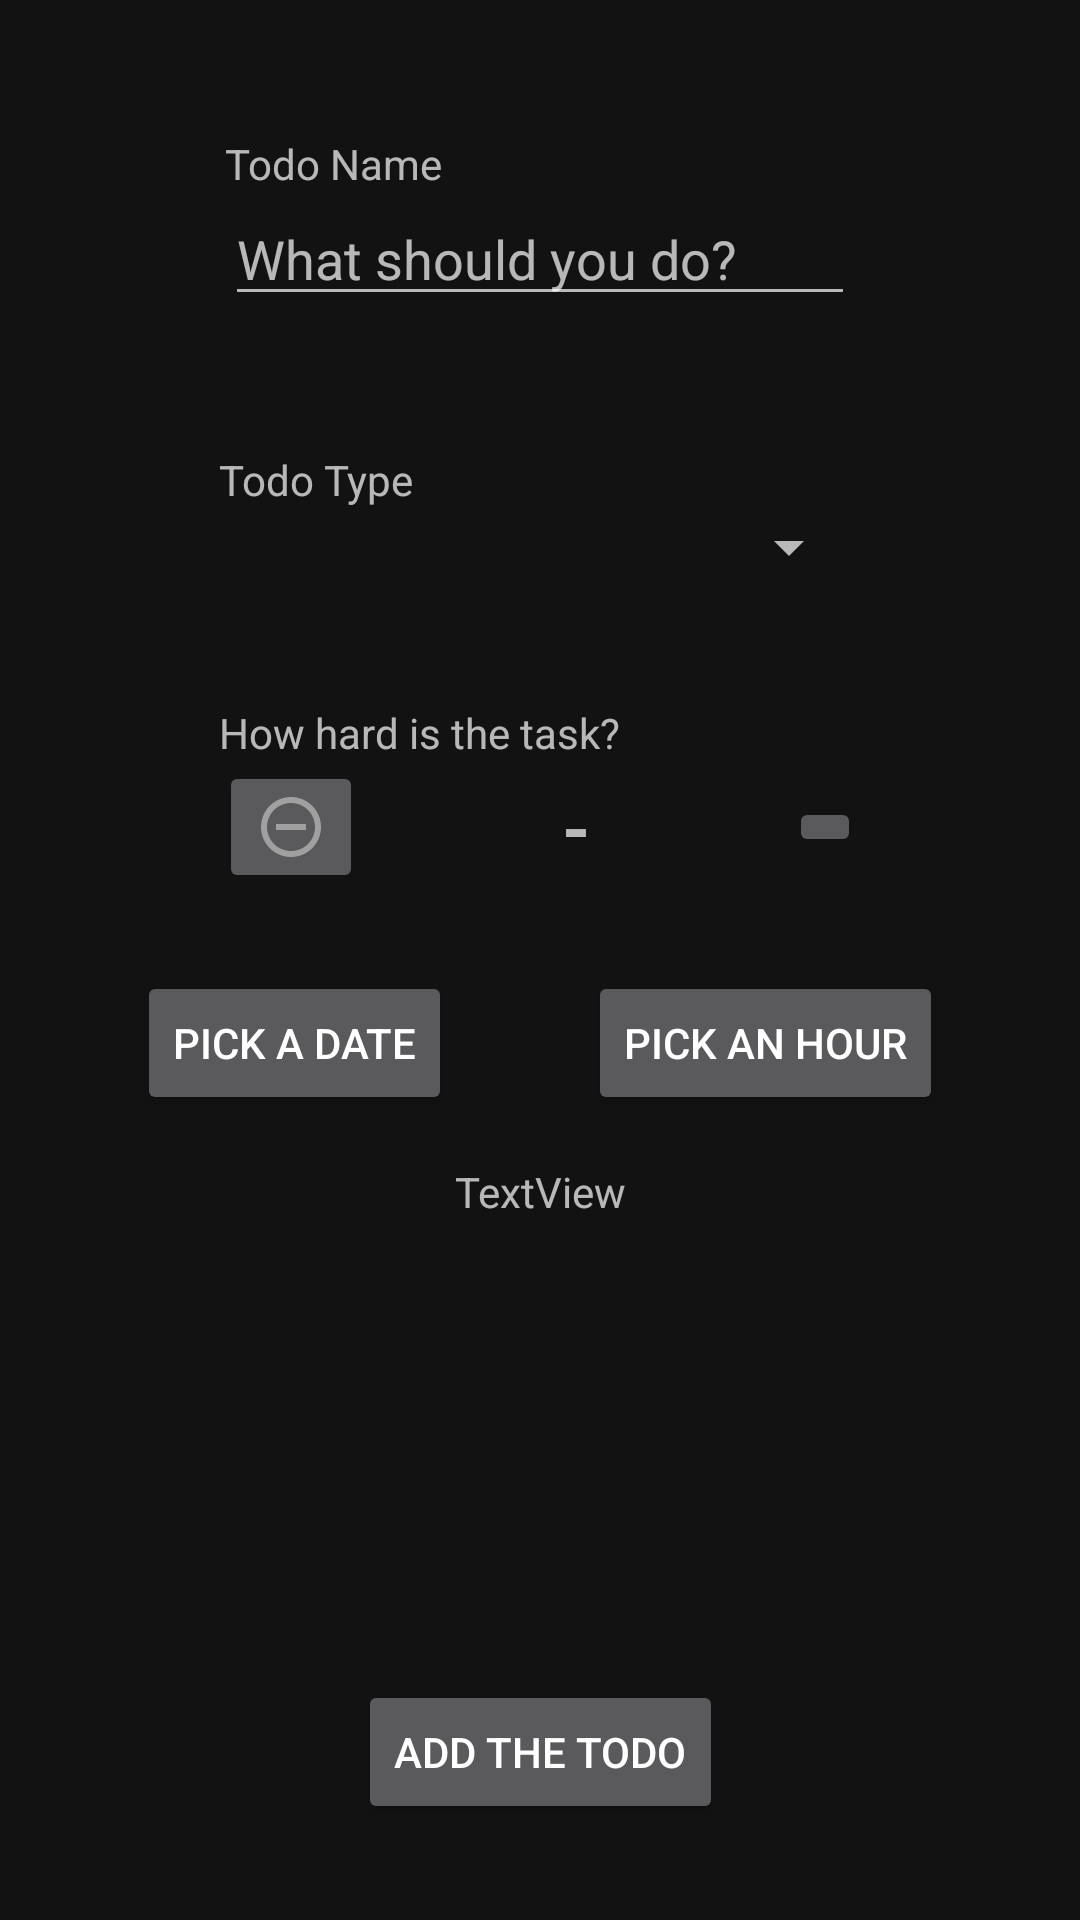

Point at icon controls on the screen. Image size 1080px x 1920px, points as [x,y].
remove circle: [291,827]
